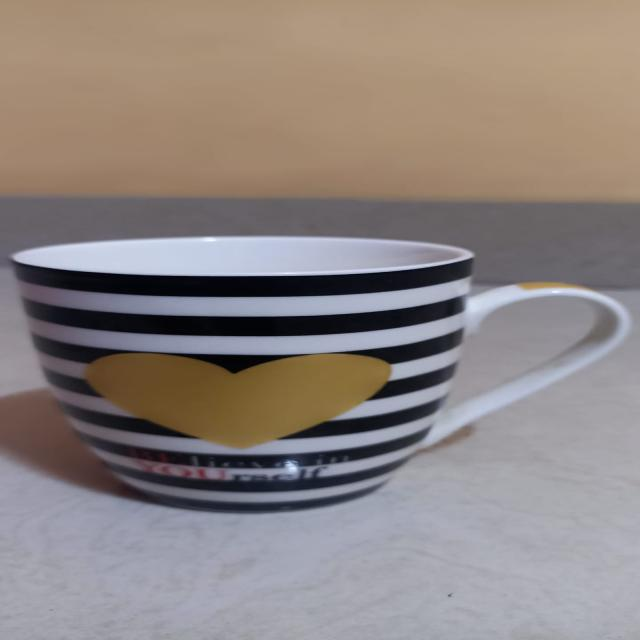cup: (6, 224, 640, 521)
